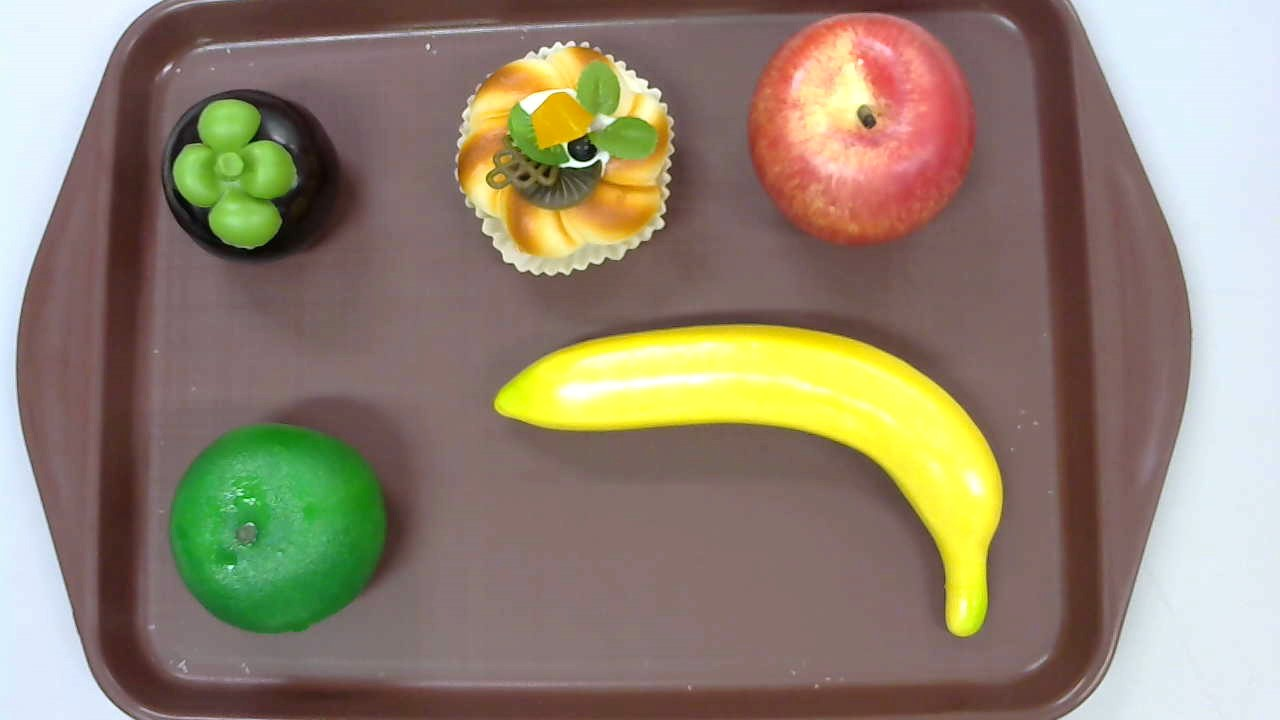banana: (493, 322, 1004, 637)
fruit tart: (454, 41, 677, 278)
green orange: (169, 424, 386, 635)
mangosteen: (161, 88, 341, 264)
red apple: (746, 11, 976, 249)
